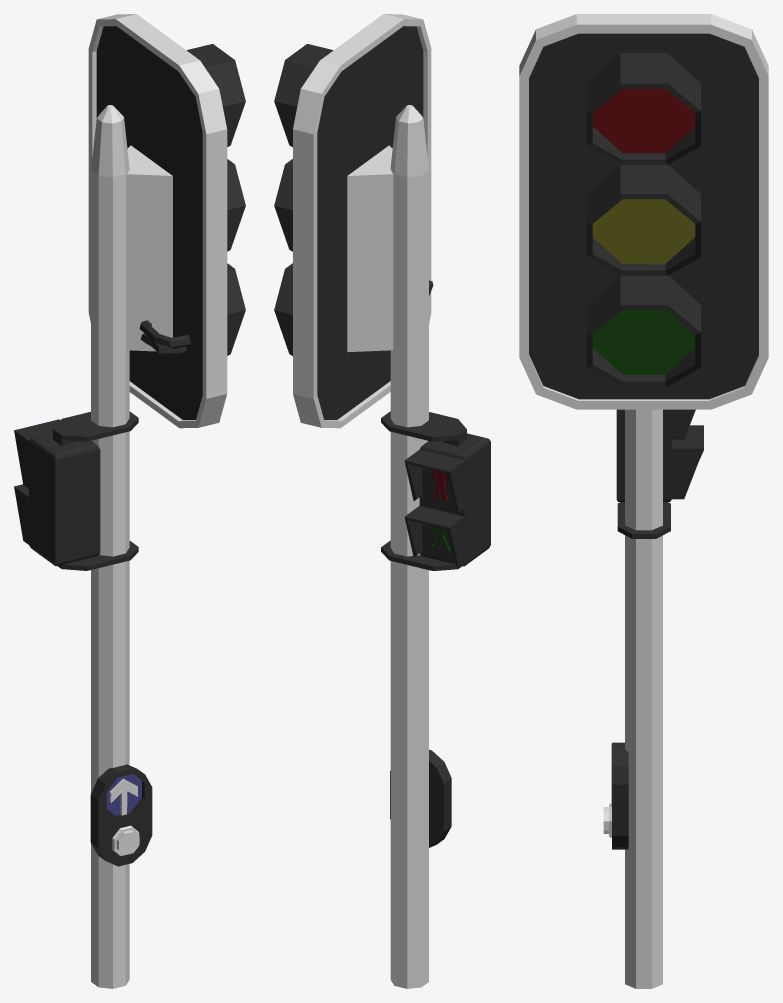
Rendered from TrafficLight.fbx.
3 renders of one model, left to right at view 1: azimuth 30°, elevation 25°; view 2: azimuth 150°, elevation 25°; view 3: azimuth 270°, elevation 25°, orthographic. The views are drawn at different scales.
Visible parts, largest first — view 1: TrafficLight, TrafficLightsPedestrian, TrafficLightButton; view 2: TrafficLight, TrafficLightsPedestrian, TrafficLightButton; view 3: TrafficLight, TrafficLightsPedestrian, TrafficLightButton.
Part boxes in pixels (x1=…): TrafficLight: x1=88, y1=14, x2=245, y2=988; TrafficLightsPedestrian: x1=14, y1=411, x2=138, y2=570; TrafficLightButton: x1=90, y1=764, x2=152, y2=866; TrafficLight: x1=274, y1=14, x2=433, y2=988; TrafficLightsPedestrian: x1=381, y1=411, x2=490, y2=570; TrafficLightButton: x1=390, y1=750, x2=451, y2=847; TrafficLight: x1=519, y1=14, x2=768, y2=988; TrafficLightsPedestrian: x1=616, y1=409, x2=703, y2=538; TrafficLightButton: x1=603, y1=742, x2=628, y2=849.
Bounding box in the file's own units: 361 × 1763 × 404.
